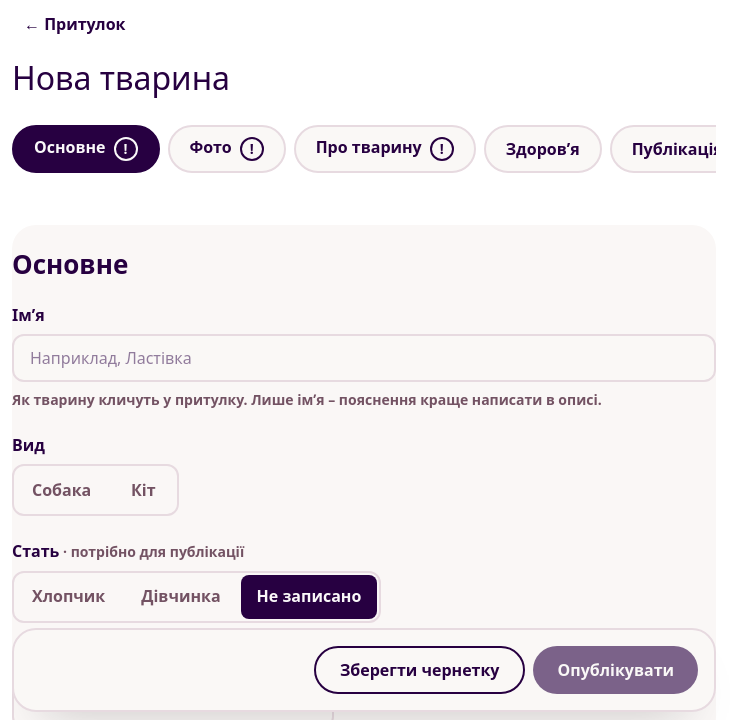
Test case: /nova: a name and a species make a draft (K-Q5) › «Зберегти чернетку» with a name and a species creates the draft and takes its address
This screenshot has width=733, height=720.
Type "Ластівка" into the field labelled "Імʼя" at (364, 358), box [12,334,716,382]
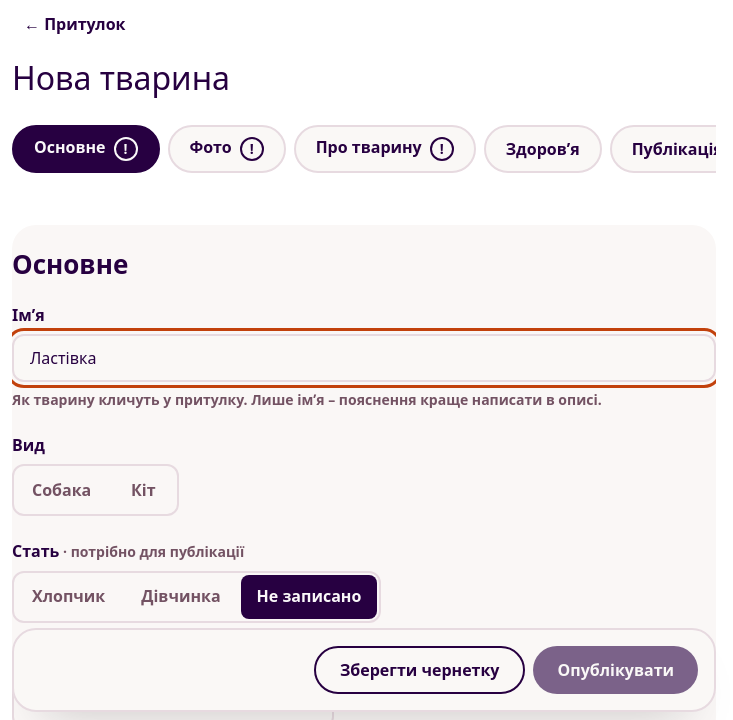
Click the radio button labelled "Собака" at (62, 490), box [32,479,91,501]
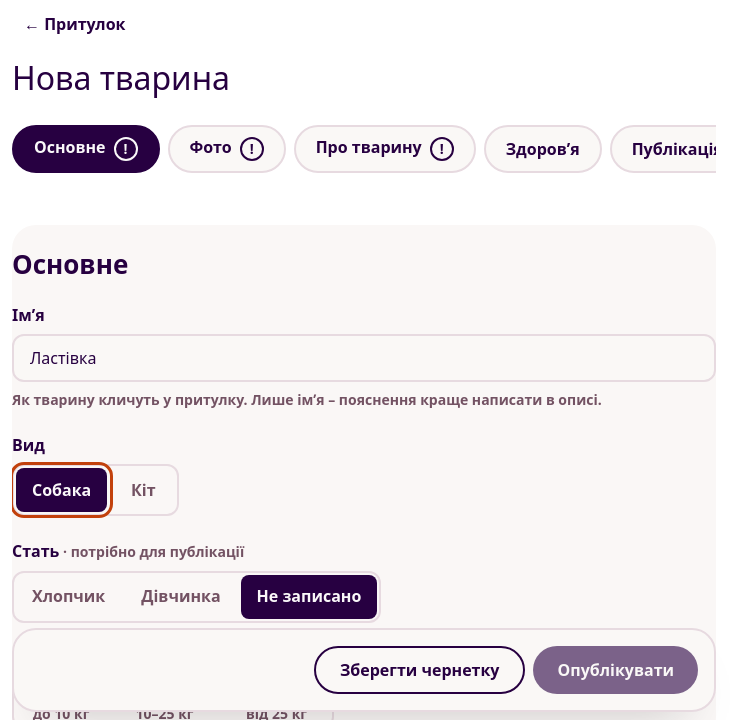
Click the button "Зберегти чернетку" at (420, 670), box [314,646,525,694]
(page scrolled)
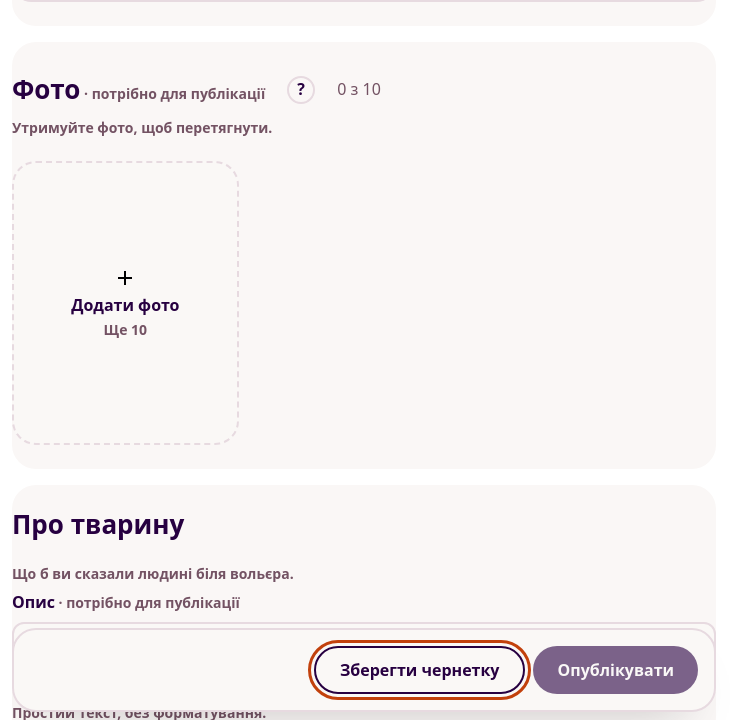
Now the button "Додати фото Ще 10" is shown, box [12,161,239,445]
